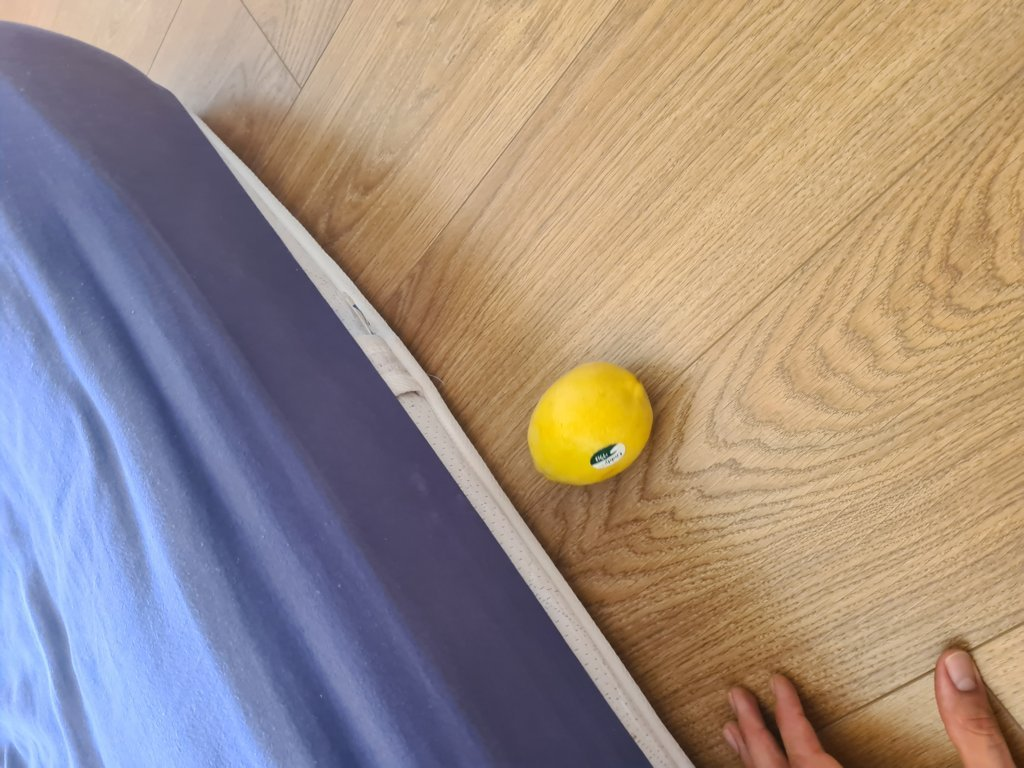lemon: (529, 354, 657, 486)
